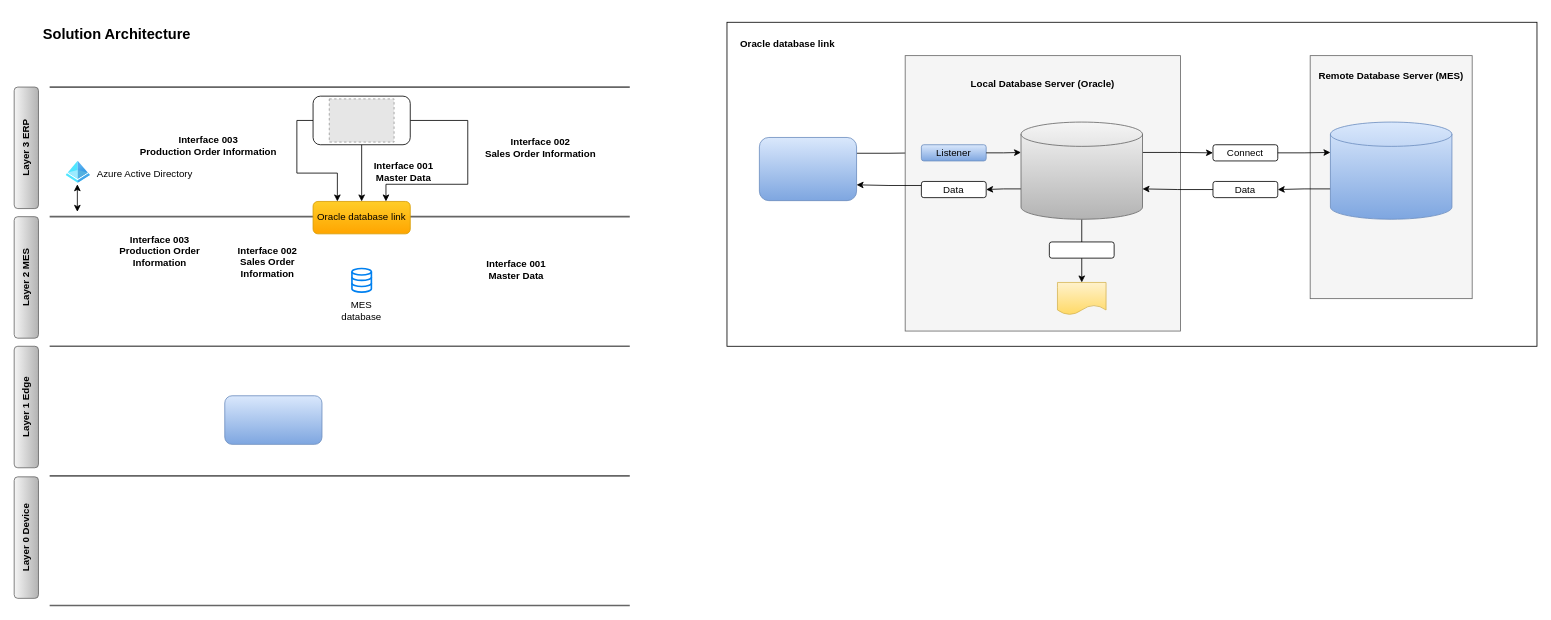
Some shapes in this 1551 by 620 pixel diagram are drawn without their labels. Grey dashed boxes stand in for pictures. The shapes that lost their labels are listed below. From the top down, each one's centre as x and y in pixels, then its label:
At pixel 808 169: "Client Application".
At pixel 1081 249: "Read".
At pixel 273 419: "CZ Works MES Platform".
